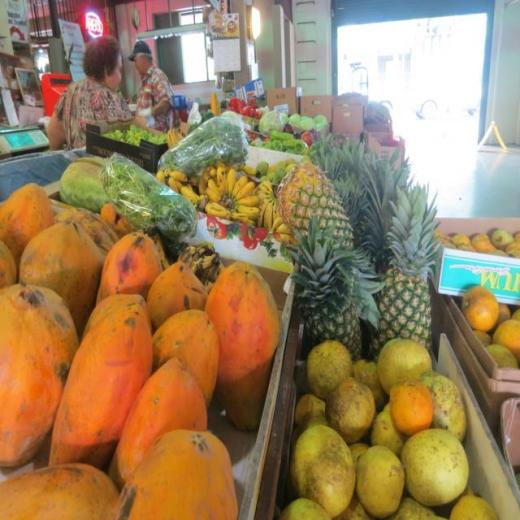Banana: (157, 160, 300, 245)
